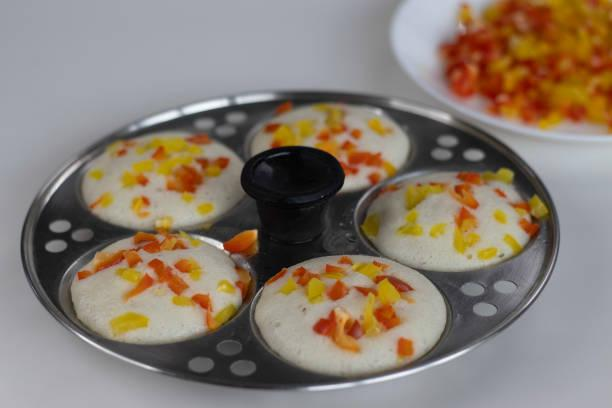idli: (85, 123, 227, 348), (258, 258, 419, 369), (371, 178, 529, 256), (255, 87, 393, 164)
